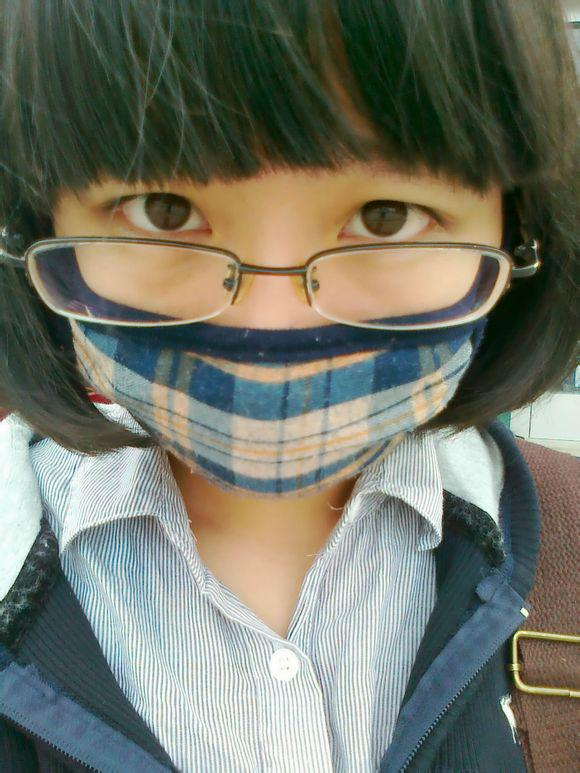WRONG: (105, 135, 476, 481)
